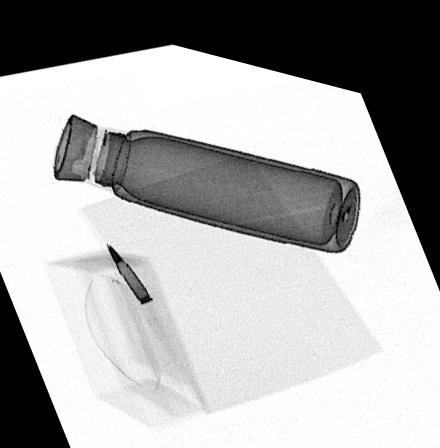Bullet: (106, 235, 154, 298)
